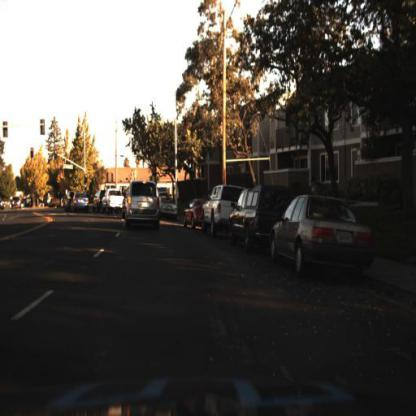car: (268, 187, 379, 295), (270, 192, 375, 276), (226, 181, 269, 261), (228, 184, 277, 253), (200, 184, 240, 240), (124, 183, 161, 229), (202, 179, 228, 241), (180, 197, 202, 233), (103, 185, 128, 213), (101, 188, 125, 216), (155, 194, 180, 220), (72, 192, 92, 212), (73, 192, 91, 213), (63, 192, 76, 215), (93, 190, 104, 217), (10, 193, 24, 214), (65, 190, 77, 211)
trafficLight-Red: (29, 145, 37, 161), (53, 146, 60, 164), (51, 148, 59, 162), (83, 171, 90, 184), (85, 172, 91, 185)
trafficLight-RedLeft: (30, 145, 38, 163)
